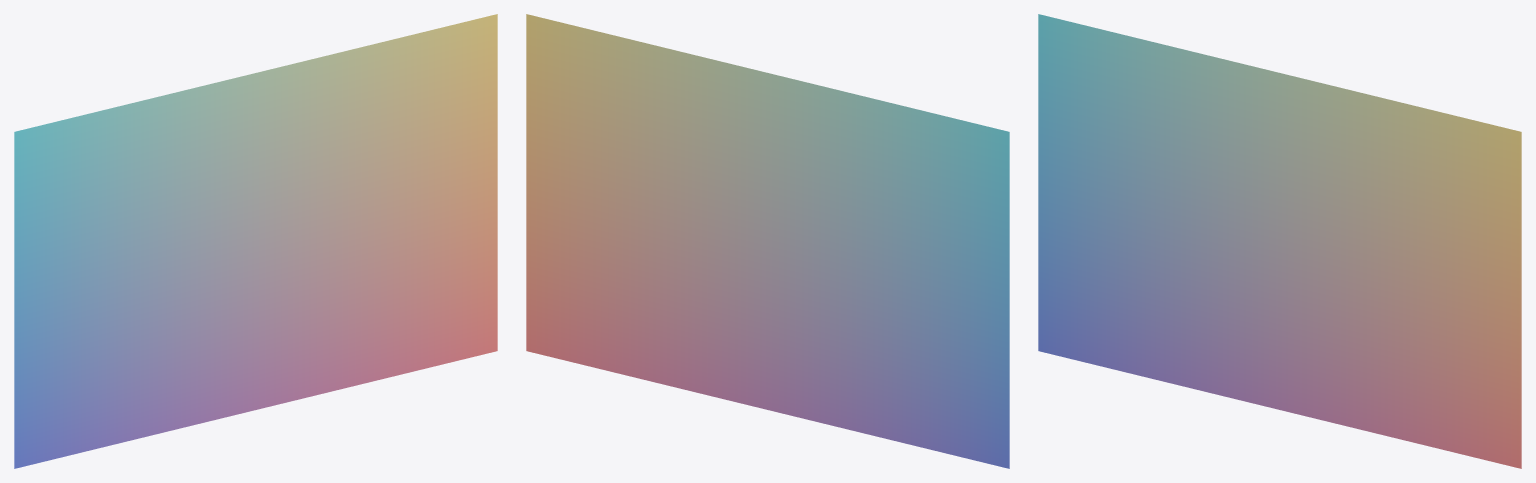
Rendered from loose_morph_flag.gltf.
The picture shows the model from 3 angles, left to right: view 1: azimuth 30°, elevation 25°; view 2: azimuth 150°, elevation 25°; view 3: azimuth 330°, elevation 25°; orthographic projection.
Visible parts, largest first — view 1: Flag; view 2: Flag; view 3: Flag.
Boxes of the visible parts, x1,y1,x2,y2 form: Flag: [14, 14, 497, 468]; Flag: [526, 14, 1009, 468]; Flag: [1038, 14, 1521, 468].
Bounding box in the file's own units: 3 × 2 × 0.
